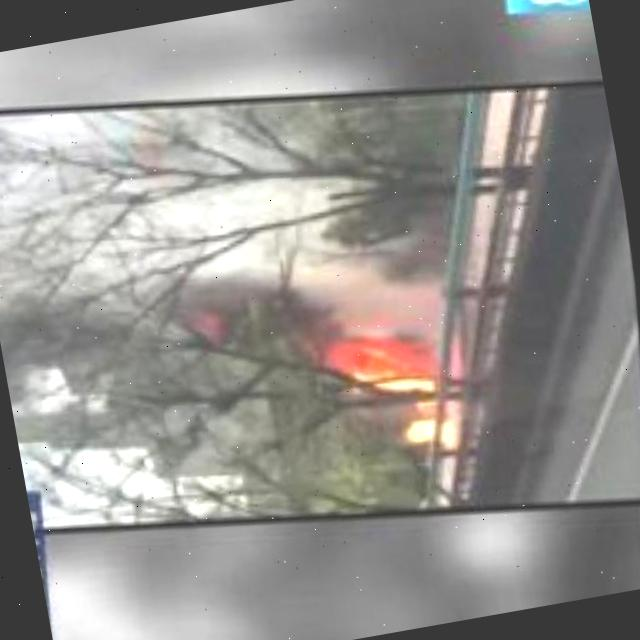fire: (324, 315, 459, 411), (407, 403, 477, 456)
